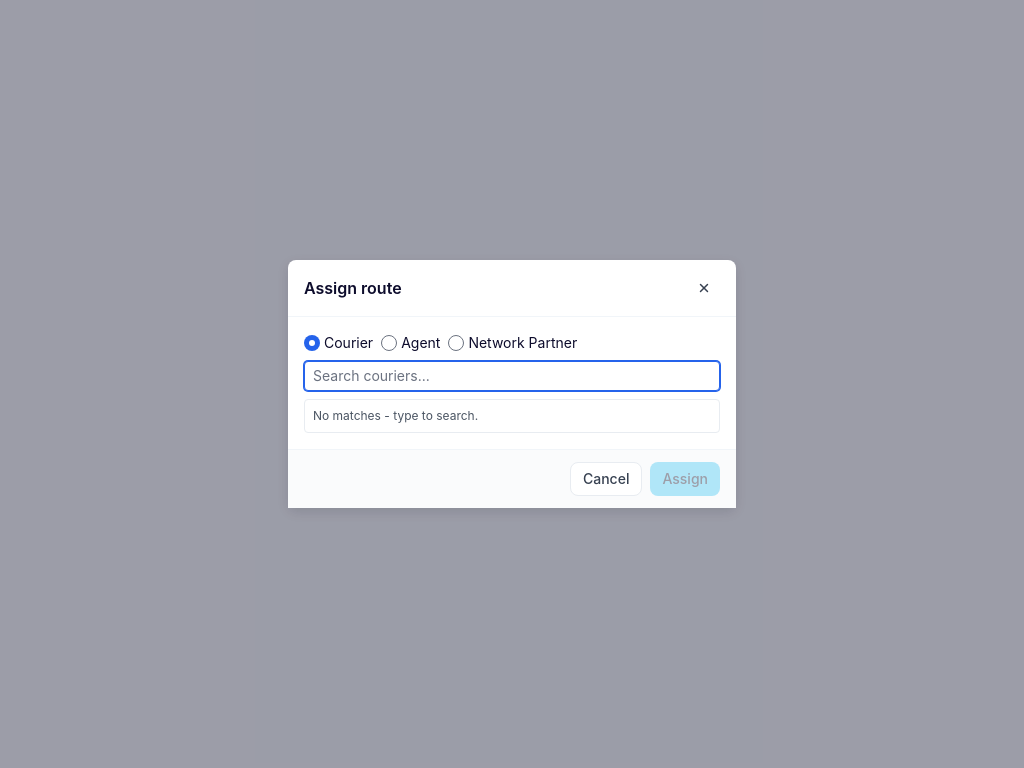
Test: AssignRouteDialog › shows error on assign 500
This screenshot has width=1024, height=768.
In the field with placeholder "Search couriers...": {"x": 512, "y": 376} [304,361,720,391], type "ac"
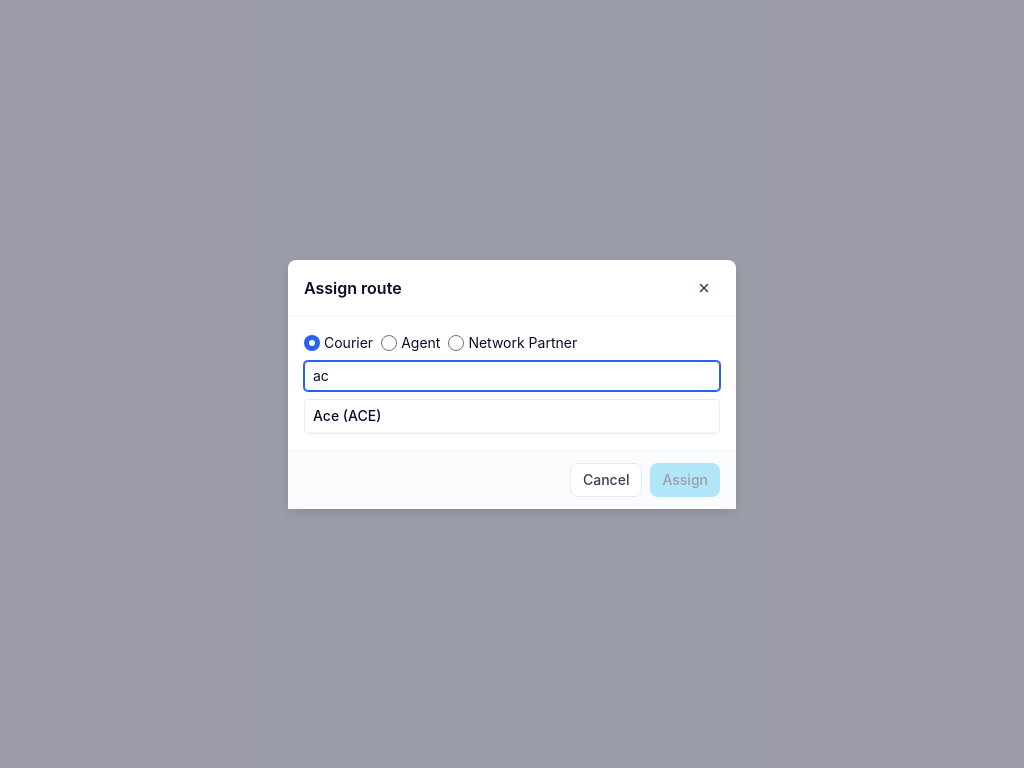
Click the button "Ace (ACE)": {"x": 347, "y": 415} [305,400,719,432]
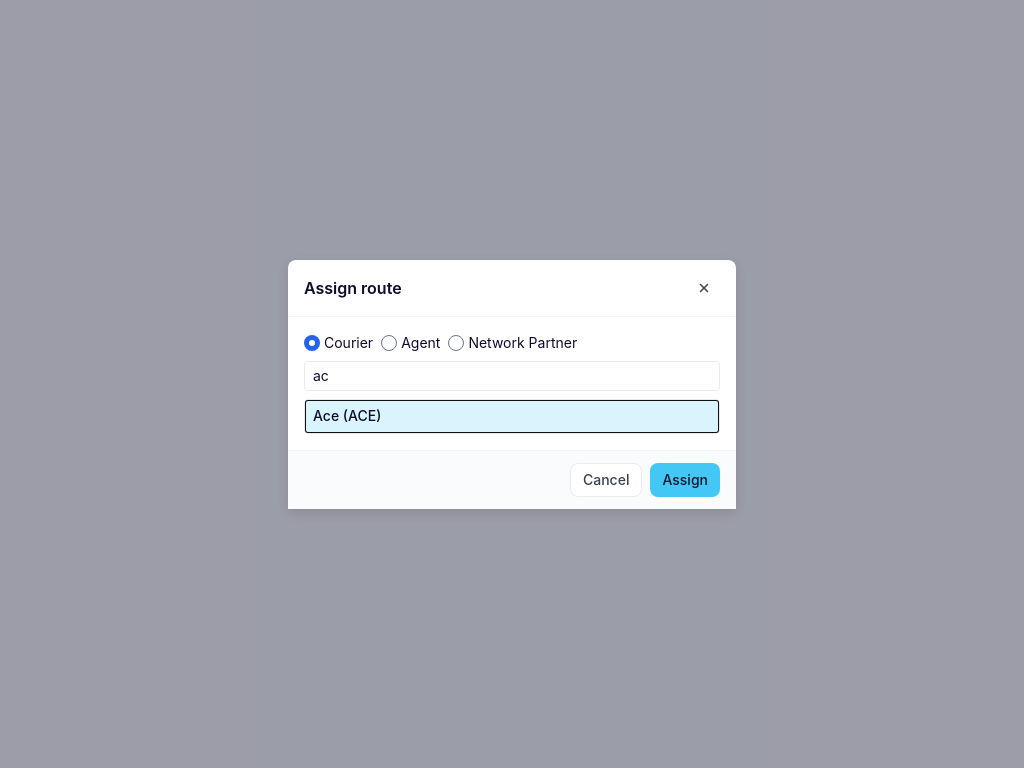
Click the button "Assign": {"x": 685, "y": 480} [650,462,720,496]
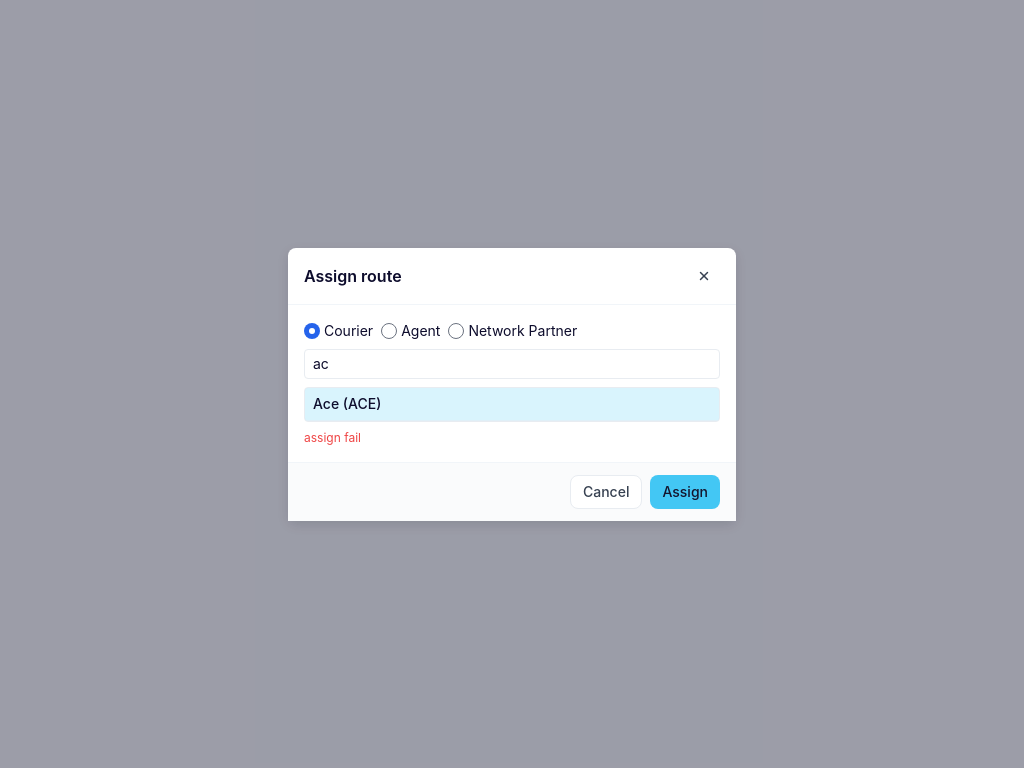
Expected: the text "assign fail" is shown, [304,430,361,444]
